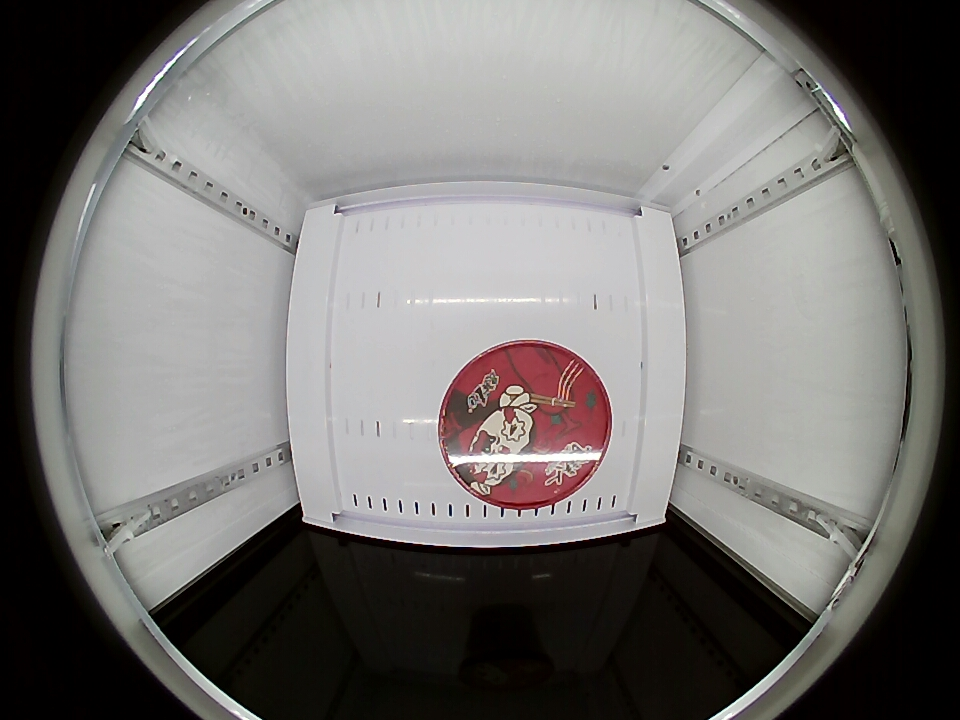suanlafen: (437, 341, 613, 508)
